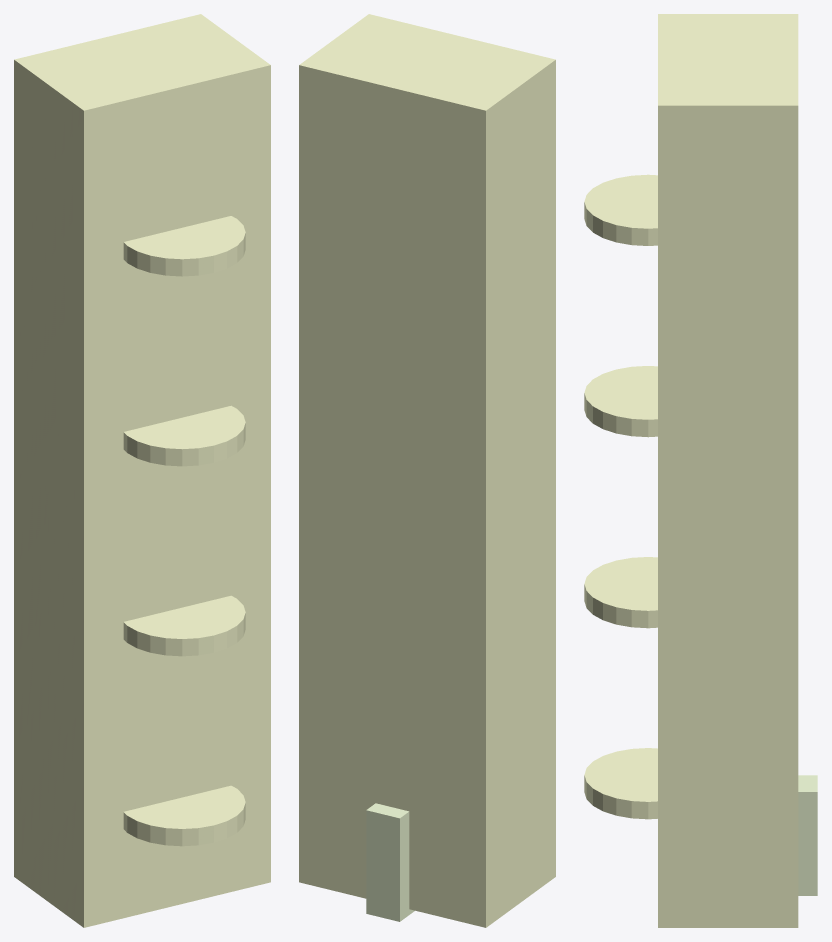
Rendered from signal_protected_turn_4_aspect.glb.
3 views of the same model, side by side, from view 1: azimuth 30°, elevation 25°; view 2: azimuth 150°, elevation 25°; view 3: azimuth 270°, elevation 25° (orthographic).
Parts seen in each view (by area): view 1: housing, lens_green, lens_yellow, lens_red, lens_arrow; view 2: housing, bracket; view 3: housing, lens_arrow, lens_green, lens_red, lens_yellow, bracket.
Part boxes in pixels (box(x1,y1,x2,y2)): housing: box(14, 14, 270, 927); lens_green: box(123, 595, 245, 656); lens_yellow: box(123, 405, 245, 466); lens_red: box(123, 216, 245, 276); lens_arrow: box(123, 785, 245, 846); housing: box(299, 14, 555, 927); bracket: box(366, 803, 414, 921); housing: box(658, 14, 798, 927); lens_arrow: box(584, 748, 657, 819); lens_green: box(584, 557, 657, 628); lens_red: box(584, 174, 657, 245); lens_yellow: box(584, 366, 657, 437); bracket: box(798, 775, 817, 895).
Bounding box in the file's own units: 0.34 × 1.43 × 0.365.
